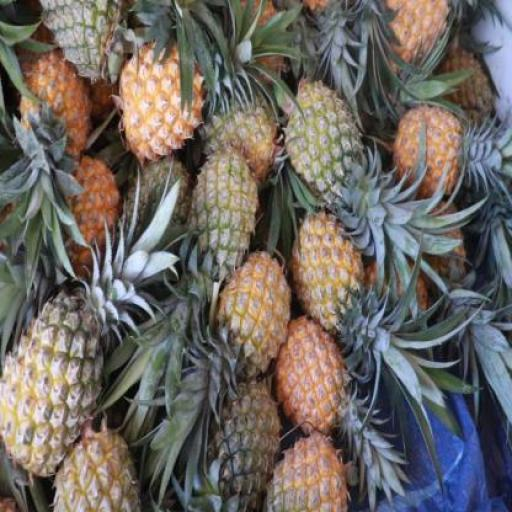------------------------------: (0, 303, 102, 482), (285, 76, 361, 204), (216, 250, 290, 381), (189, 150, 258, 284), (276, 318, 347, 444), (207, 95, 284, 182), (263, 434, 349, 511)
Pineapple - v8 v1: (120, 39, 206, 163), (292, 212, 366, 330), (21, 54, 89, 168), (395, 107, 462, 206)
